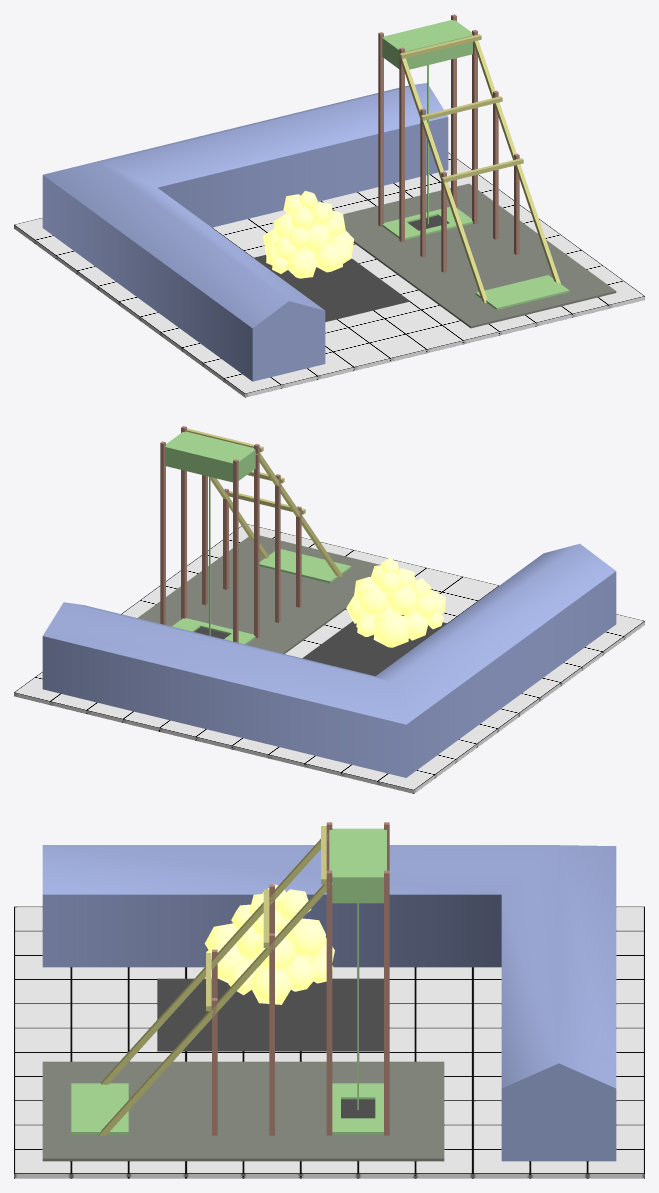
The model's file is XG_Mine-Precious-Metal.glb.
3 views of the same model, one above another, from view 1: azimuth 30°, elevation 25°; view 2: azimuth 150°, elevation 25°; view 3: azimuth 270°, elevation 25° (orthographic). The views are drawn at different scales.
Visible parts, largest first — view 1: building_9m_3m_045, ground_11_x_018, Box563, Plane027, Box558, Box562, Box560, Box561, Box554, Box556, Box559, Box557 (+6 smaller); view 2: building_9m_3m_045, ground_11_x_018, Box563, Box558, Plane027, Box562, Box556, Box554, Box555, GeoSphere228, Box557, Box560 (+7 smaller); view 3: building_9m_3m_045, ground_11_x_018, Box563, Plane027, Box558, Box562, Box561, Box560, Box559, Box557, Box555, Box565 (+9 smaller).
Boxes of the visible parts, <box> form: building_9m_3m_045: <box>42,83,448,381</box>; ground_11_x_018: <box>14,152,644,397</box>; Box563: <box>343,183,616,328</box>; Plane027: <box>253,255,410,321</box>; Box558: <box>382,20,472,69</box>; Box562: <box>475,275,569,309</box>; Box560: <box>401,58,487,302</box>; Box561: <box>473,40,560,283</box>; Box554: <box>378,32,383,226</box>; Box556: <box>399,47,404,241</box>; Box559: <box>382,207,472,239</box>; Box557: <box>472,29,477,224</box>; building_9m_3m_045: <box>42,543,616,777</box>; ground_11_x_018: <box>14,524,644,793</box>; Box563: <box>137,535,380,653</box>; Box558: <box>165,431,255,482</box>; Plane027: <box>302,615,447,676</box>; Box562: <box>259,549,351,583</box>; Box556: <box>254,444,259,638</box>; Box554: <box>233,459,238,642</box>; Box555: <box>160,441,165,624</box>; GeoSphere228: <box>373,611,409,647</box>; Box557: <box>181,426,186,619</box>; Box560: <box>256,452,342,577</box>; building_9m_3m_045: <box>42,845,616,1161</box>; ground_11_x_018: <box>14,906,644,1178</box>; Box563: <box>42,1061,444,1161</box>; Plane027: <box>157,978,383,1051</box>; Box558: <box>329,828,386,903</box>; Box562: <box>71,1083,128,1134</box>; Box561: <box>98,882,332,1135</box>; Box560: <box>100,833,328,1084</box>; Box559: <box>332,1083,383,1134</box>; Box557: <box>326,870,332,1135</box>; Box555: <box>384,870,389,1135</box>; Box565: <box>269,933,274,1135</box>.
Size of the model in its own units: 11 by 5.2 by 11.
Materials: 8 (1 with a texture image).
